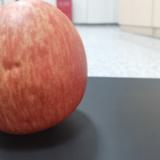apple: (1, 1, 88, 136)
